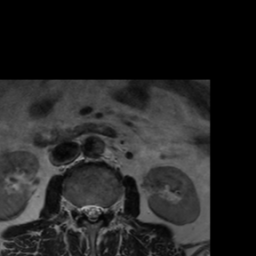CCS_normal: (88, 198, 95, 228)
LFS_normal: (103, 198, 112, 220)
LLS_stenosis: (95, 197, 103, 222)
RFS_stenosis: (73, 198, 80, 220)
RLS_stenosis: (80, 198, 88, 222)
